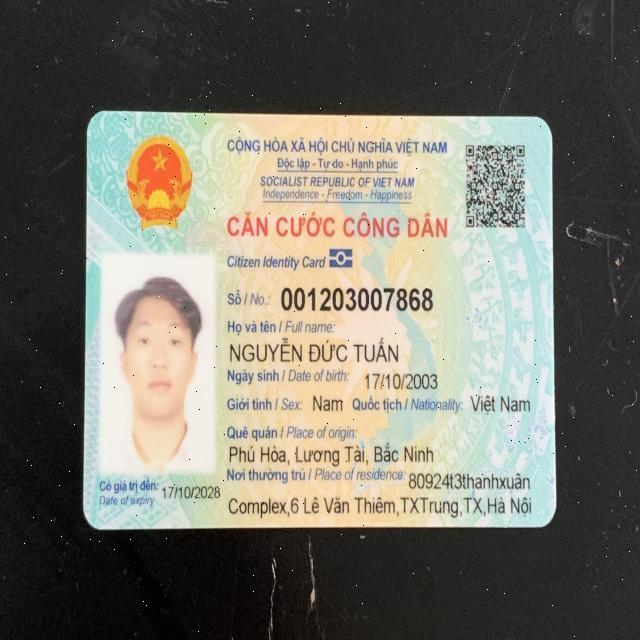current_place: (228, 490, 534, 520), (407, 463, 532, 492)
dob: (364, 369, 442, 392)
expire_date: (163, 480, 225, 505)
gender: (307, 389, 350, 418)
id: (278, 275, 434, 316)
name: (227, 338, 400, 367)
nationality: (467, 390, 530, 419)
origin_place: (226, 442, 447, 467)
qr: (462, 141, 530, 231)
